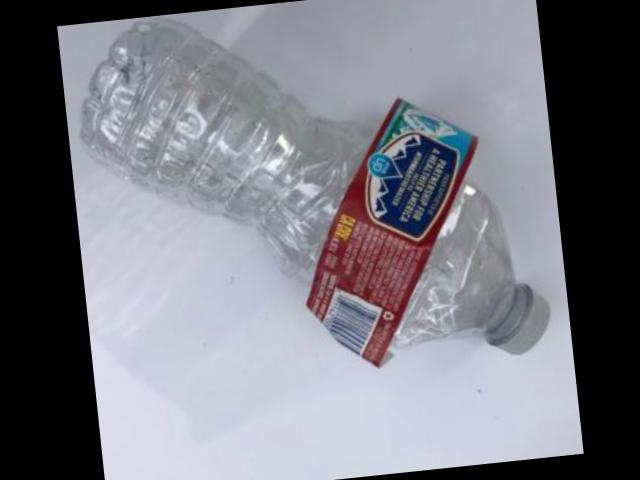plastic: (78, 21, 546, 368)
